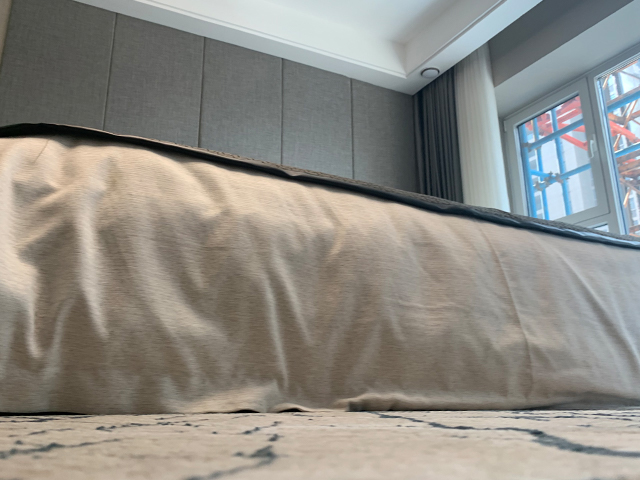bed: (1, 121, 640, 415)
carpet: (1, 411, 640, 480)
